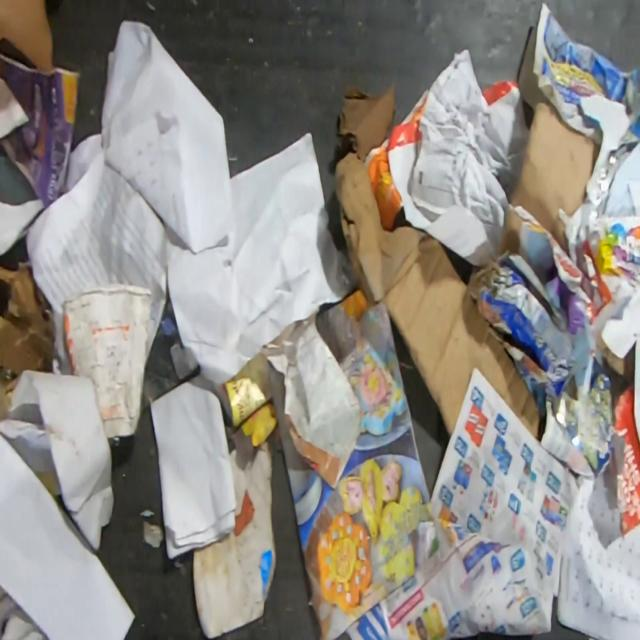cardboard: (334, 150, 541, 442), (462, 246, 578, 418), (61, 282, 154, 439), (508, 100, 600, 256), (0, 263, 58, 419)
